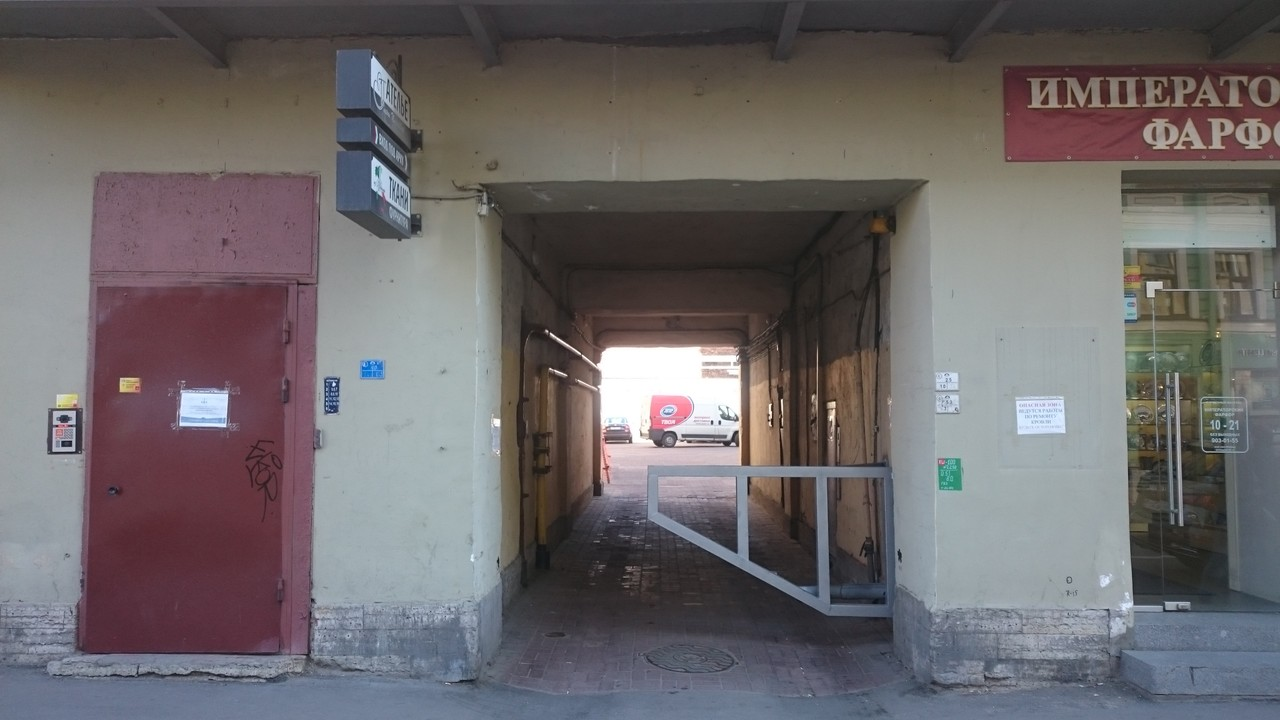arch: (479, 183, 935, 689)
cantilever: (337, 48, 421, 237)
door: (83, 278, 284, 662), (1150, 287, 1280, 610)
